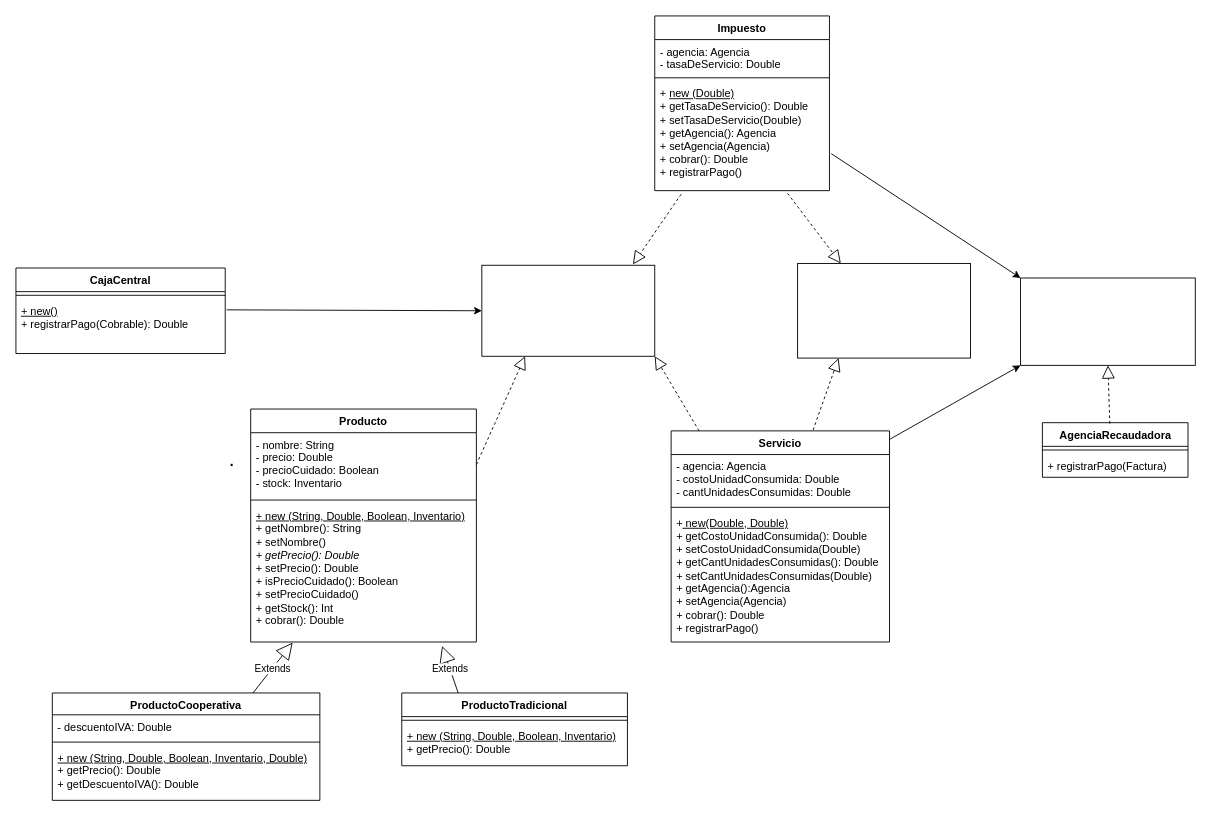
Some shapes in this 1211 by 819 pixel diagram are drawn without their labels. Each missing label, with the centre of its shape:
<<Interface>> Agencia + registrarPago(Factura): pixel 1107 321
<<Interface>> Cobrable + cobrar(): Double: pixel 568 310
<<Interface>> Factura + registrarPago(): pixel 884 310
